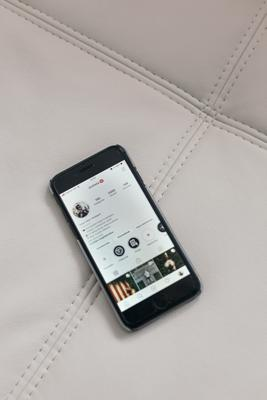cell-phone: (46, 138, 206, 336)
